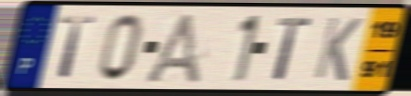0: (96, 11, 145, 84)
1: (232, 13, 263, 84)
A: (141, 10, 203, 87)
K: (311, 15, 365, 84)
T: (271, 15, 313, 83), (57, 14, 99, 80)
